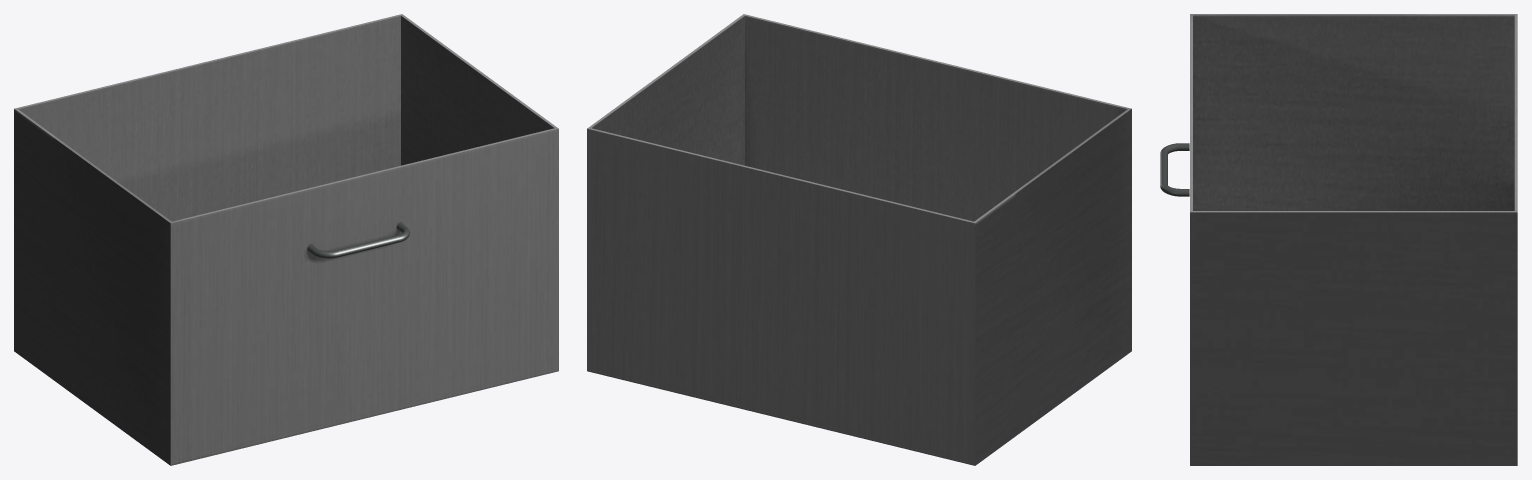
File: drawer_m.gltf
The picture shows the model from 3 angles, left to right: view 1: azimuth 30°, elevation 25°; view 2: azimuth 150°, elevation 25°; view 3: azimuth 270°, elevation 25°; orthographic projection. The views are drawn at different scales.
Parts seen in each view (by area): view 1: drawer_m, handle_m; view 2: drawer_m; view 3: drawer_m, handle_m.
Part boxes in pixels (<box>): drawer_m: <box>14,14,558,465</box>; handle_m: <box>307,223,409,258</box>; drawer_m: <box>587,14,1131,465</box>; drawer_m: <box>1190,14,1517,465</box>; handle_m: <box>1160,143,1189,196</box>.
Bounding box in the file's own units: 2.54 × 1.51 × 1.93.
2 materials, 2 textured.
